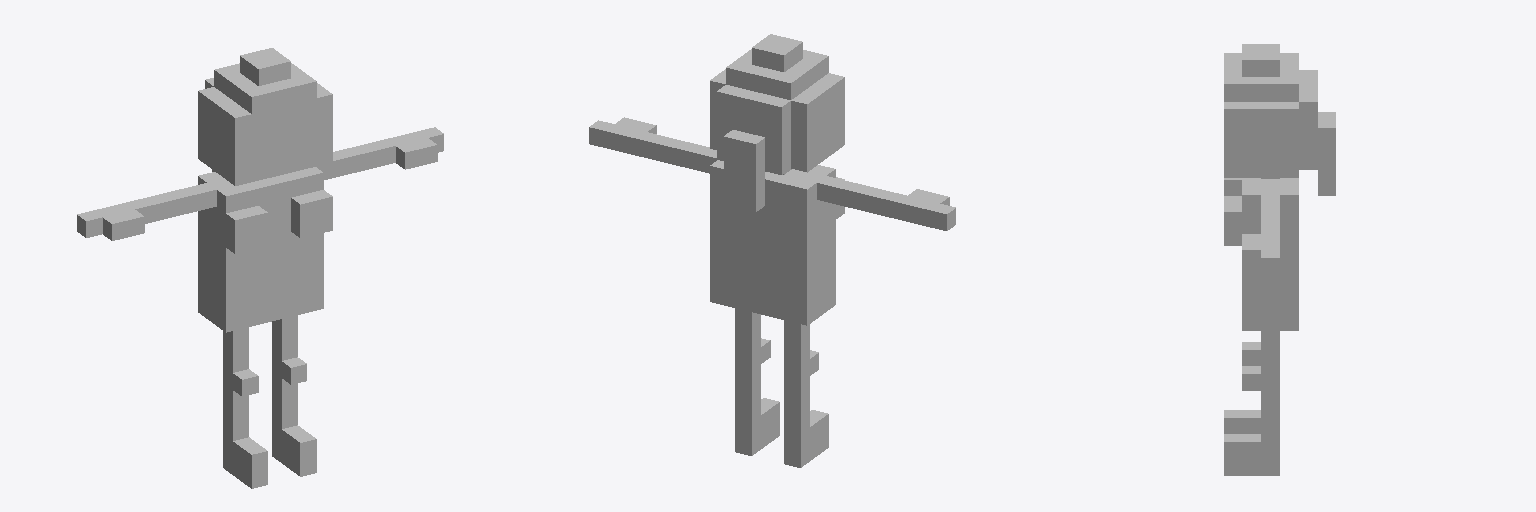
File: princess.obj
The picture shows the model from 3 angles: view 1: azimuth 30°, elevation 25°; view 2: azimuth 150°, elevation 25°; view 3: azimuth 270°, elevation 25°; orthographic projection.
Parts seen in each view (by area): view 1: object 1; view 2: object 1; view 3: object 1.
Part boxes in pixels (x1,y1,x2,y2): object 1: (77,48,443,488); object 1: (589,34,955,467); object 1: (1224,44,1335,475).
Size of the model in its own units: 2.2 by 2.4 by 0.6.